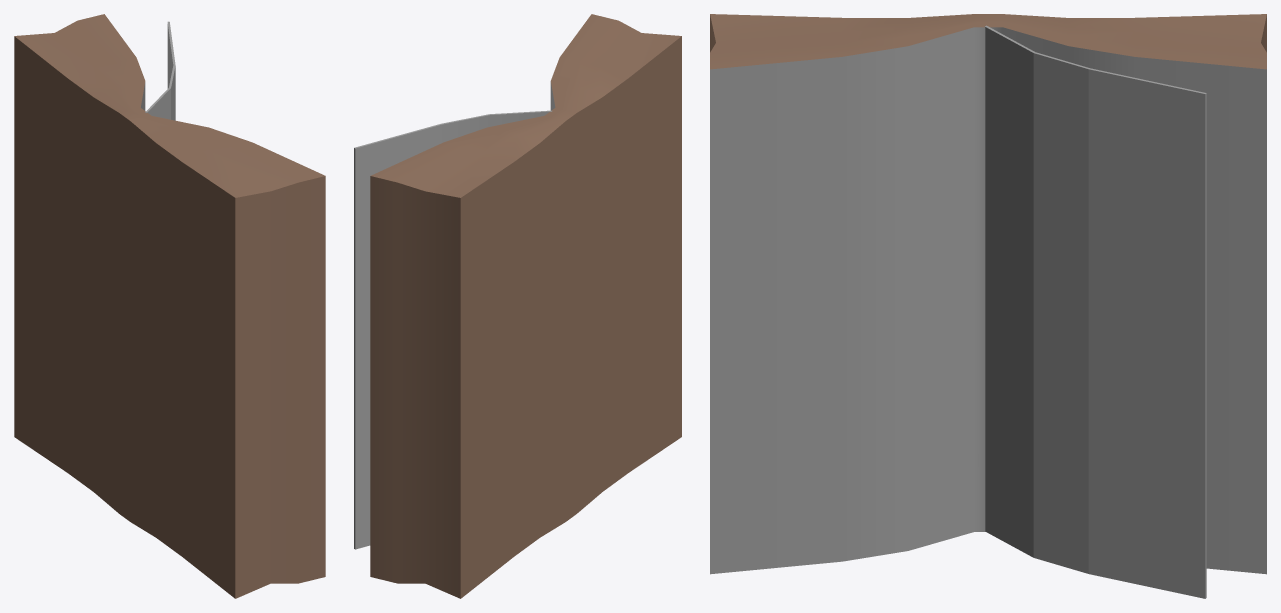
The model's file is Libro.fbx.
The picture shows the model from 3 angles, left to right: view 1: azimuth 30°, elevation 25°; view 2: azimuth 150°, elevation 25°; view 3: azimuth 270°, elevation 25°; orthographic projection. The views are drawn at different scales.
Parts seen in each view (by area): view 1: polySurface4; view 2: polySurface4; view 3: polySurface4.
Part boxes in pixels (left/top/right/bottom): polySurface4: left=14, top=14, right=325, bottom=598; polySurface4: left=354, top=14, right=681, bottom=598; polySurface4: left=710, top=14, right=1266, bottom=598.
Bounding box in the file's own units: 0.2788 × 0.8153 × 0.8147.
